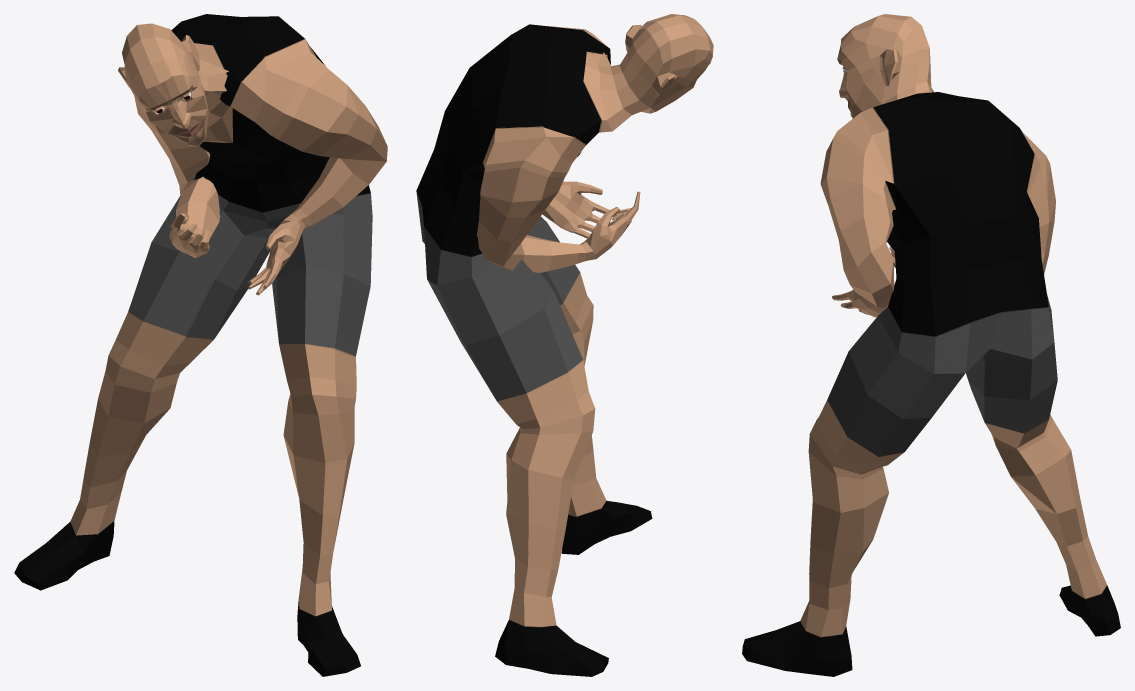
Rendered from PlayerDead(16).obj.
The picture shows the model from 3 angles, left to right: view 1: azimuth 30°, elevation 25°; view 2: azimuth 150°, elevation 25°; view 3: azimuth 270°, elevation 25°; orthographic projection. The views are drawn at different scales.
Visible parts, largest first — view 1: Plane002; view 2: Plane002; view 3: Plane002.
Part boxes in pixels (x1,y1,x2,y2): Plane002: (14,14,387,676); Plane002: (416,14,713,676); Plane002: (742,14,1120,676).
Bounding box in the file's own units: 662 × 1466 × 850.
